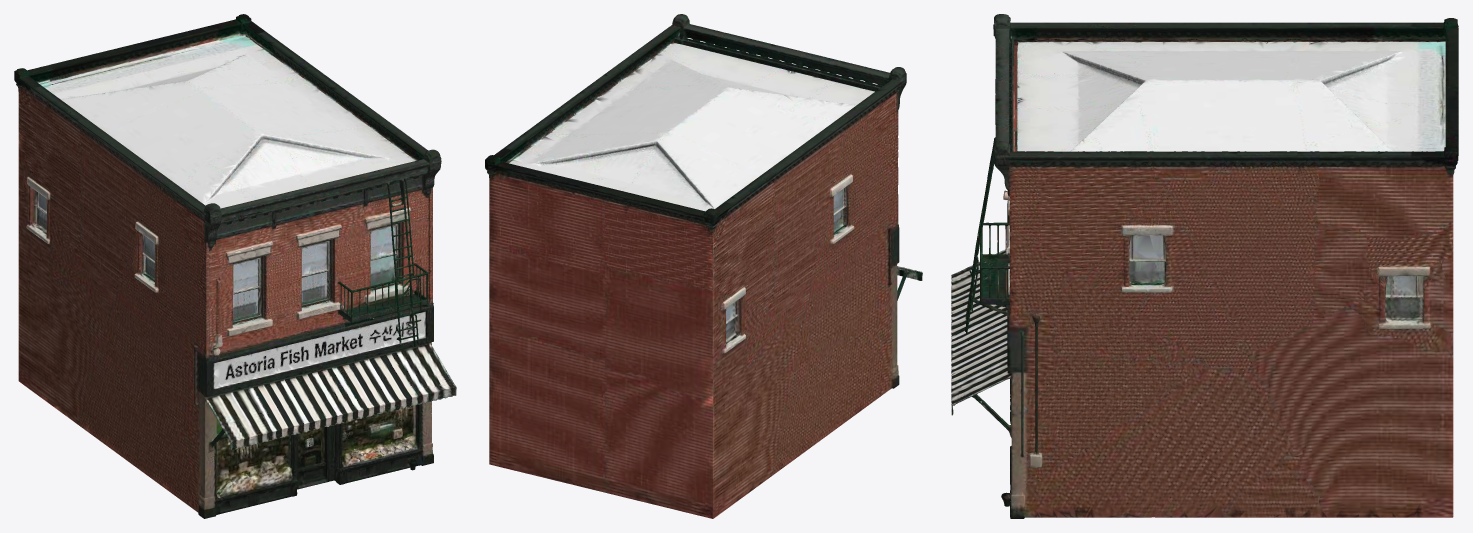
The model's file is fish-market.glb.
3 renders of one model, left to right at view 1: azimuth 30°, elevation 25°; view 2: azimuth 150°, elevation 25°; view 3: azimuth 270°, elevation 25°, orthographic. The views are drawn at different scales.
Visible parts, largest first — view 1: Mesh_0.002; view 2: Mesh_0.002; view 3: Mesh_0.002.
Part boxes in pixels (<box>): Mesh_0.002: <box>14,14,456,518</box>; Mesh_0.002: <box>485,14,922,518</box>; Mesh_0.002: <box>951,14,1458,518</box>.
Size of the model in its own units: 0.0933 by 0.12 by 0.1475.
1 material, 1 textured.
